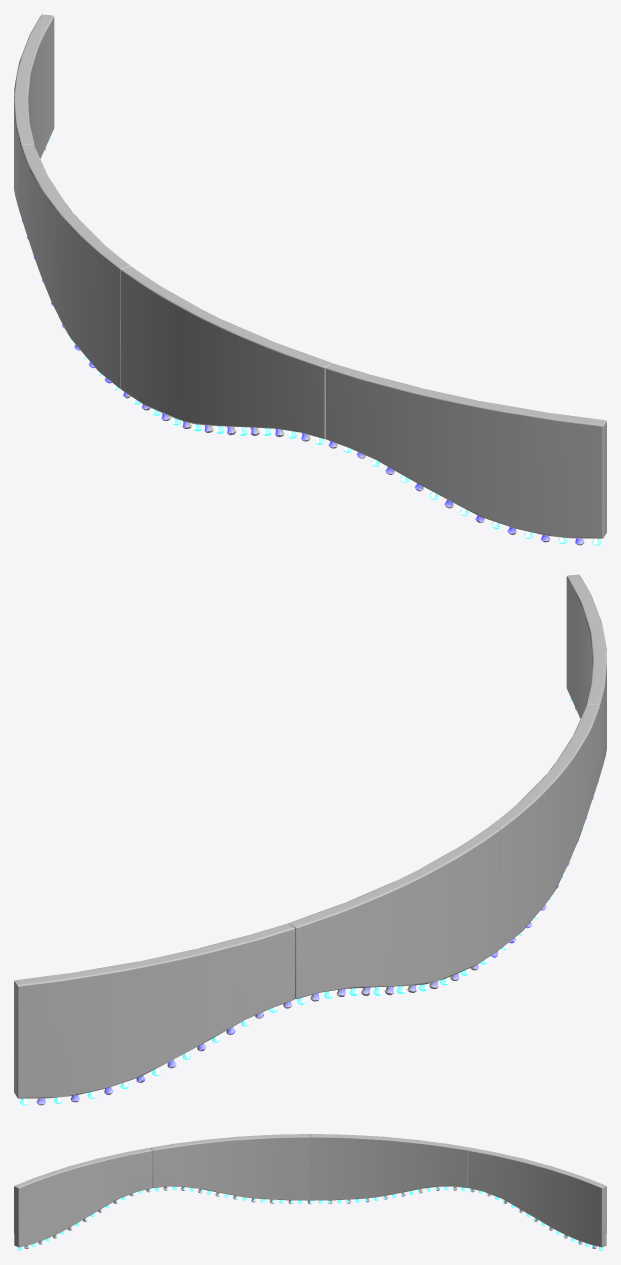
File: SM_DesignLight.fbx
3 views of the same model, one above another, from view 1: azimuth 30°, elevation 25°; view 2: azimuth 150°, elevation 25°; view 3: azimuth 270°, elevation 25° (orthographic). The views are drawn at different scales.
Visible parts, largest first — view 1: SM_DesignLight_LOD0; view 2: SM_DesignLight_LOD0; view 3: SM_DesignLight_LOD0.
Boxes of the visible parts, bbox=[...] form: SM_DesignLight_LOD0: bbox=[14, 14, 606, 545]; SM_DesignLight_LOD0: bbox=[14, 574, 606, 1105]; SM_DesignLight_LOD0: bbox=[14, 1134, 606, 1250].
Bounding box in the file's own units: 296 × 1370 × 176.
